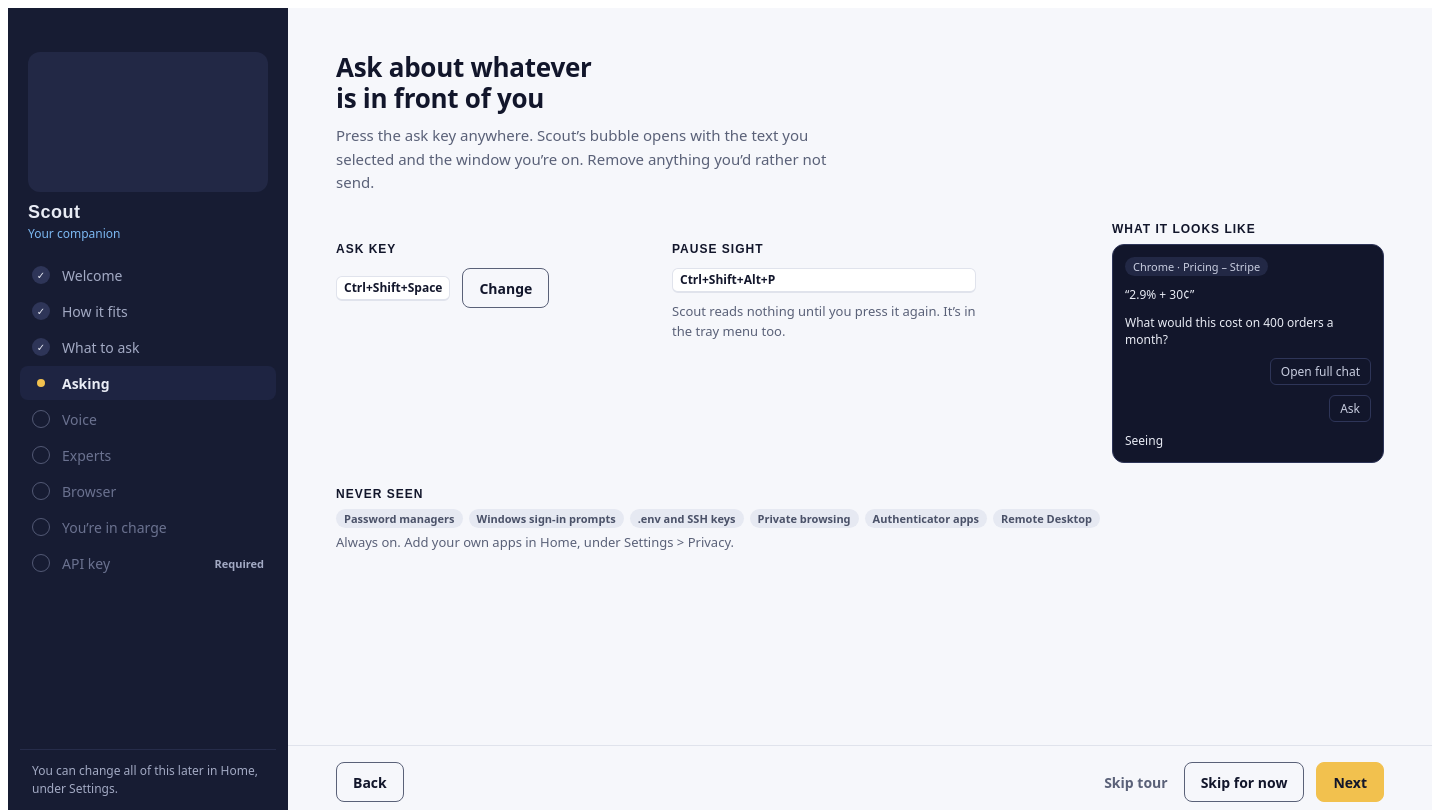
Test: Walkthrough › does not advance when the save fails, and says why
Expected: the text "Ctrl+Shift+Space" is shown, 336,276 -> 450,301
Click the button "Change".
click(506, 288)  # box 462,268 -> 549,308
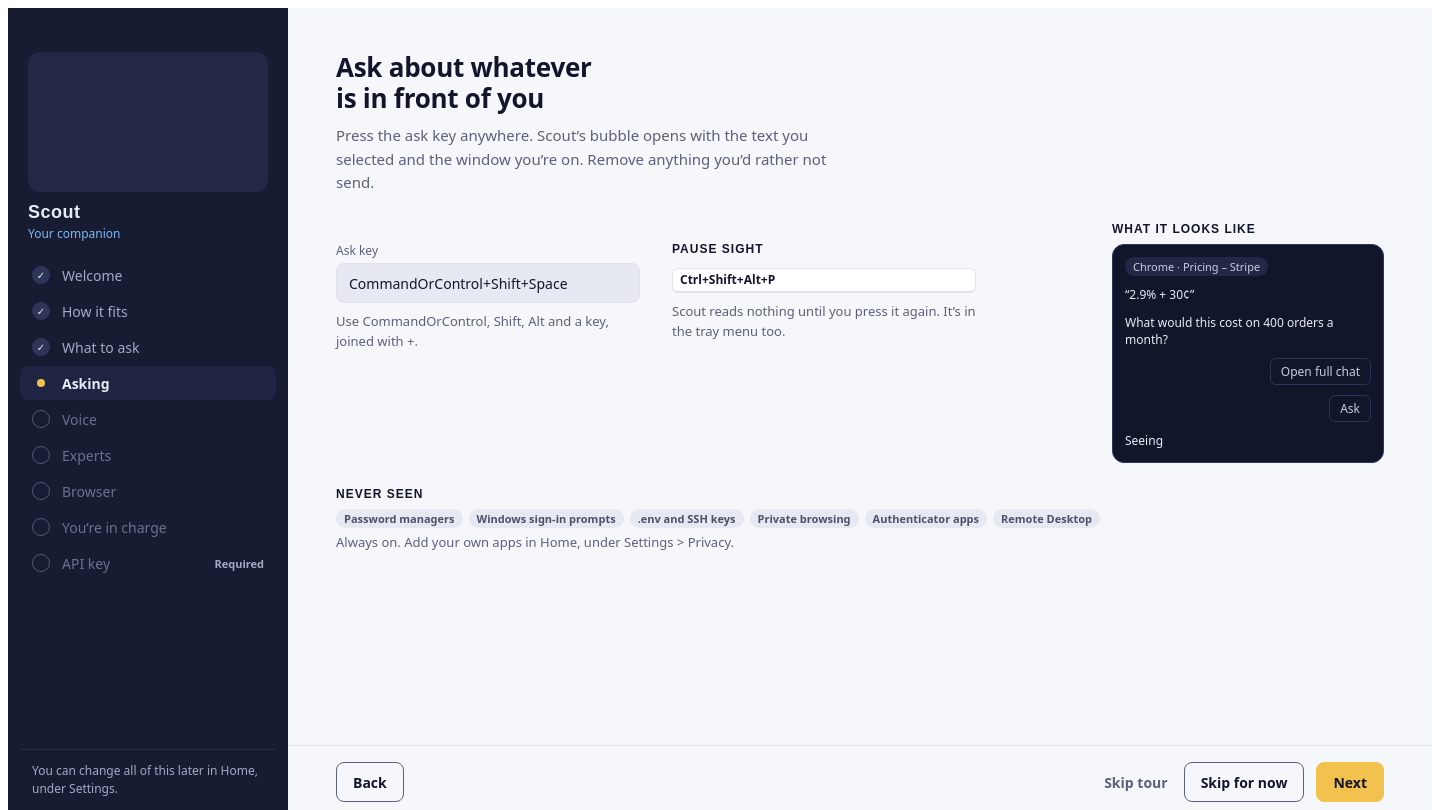
Replace the text in the field labelled "Ask key" with "Alt+Space" at (488, 283), box 336,263 -> 640,303
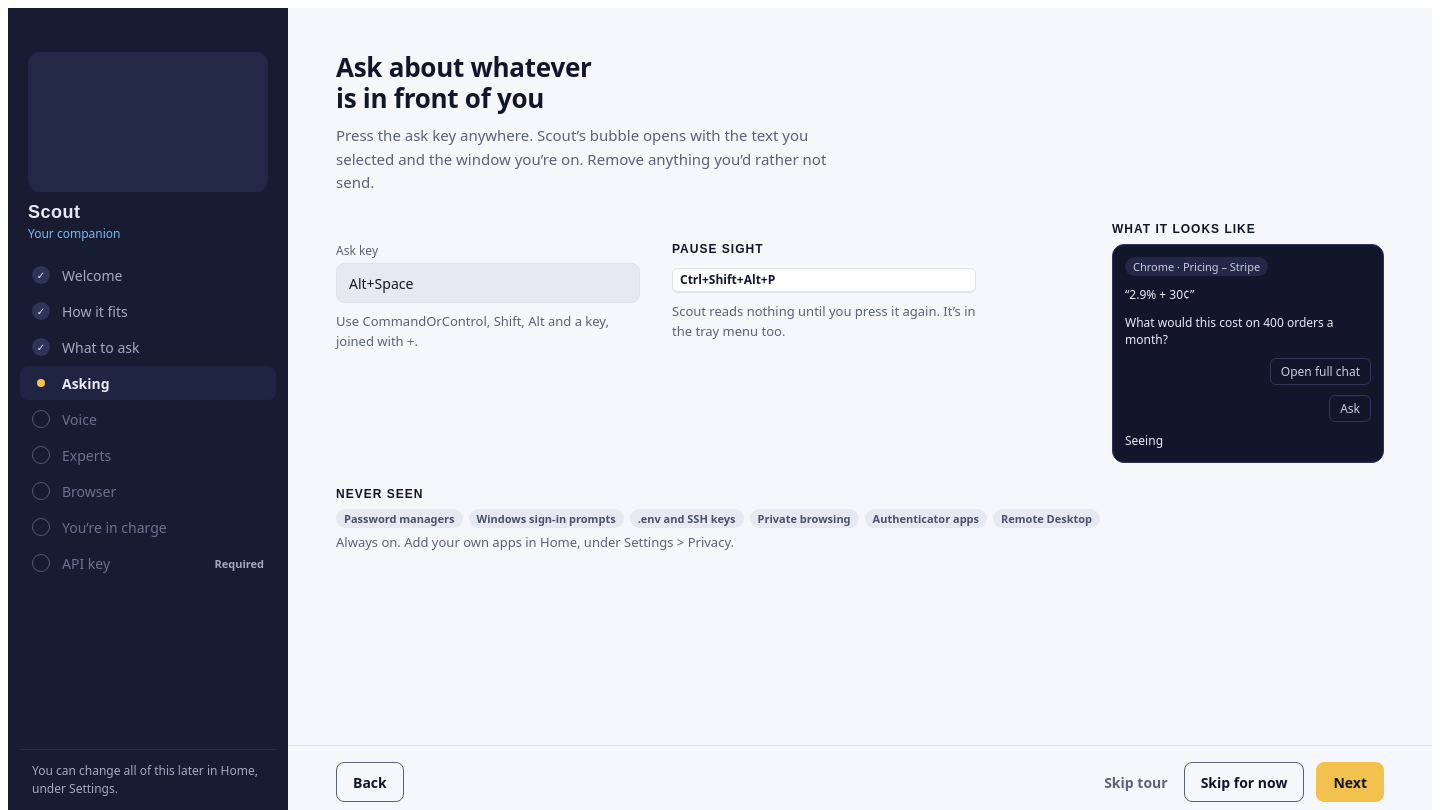
Click the button "Next".
click(1350, 782)  # box 1316,762 -> 1384,802
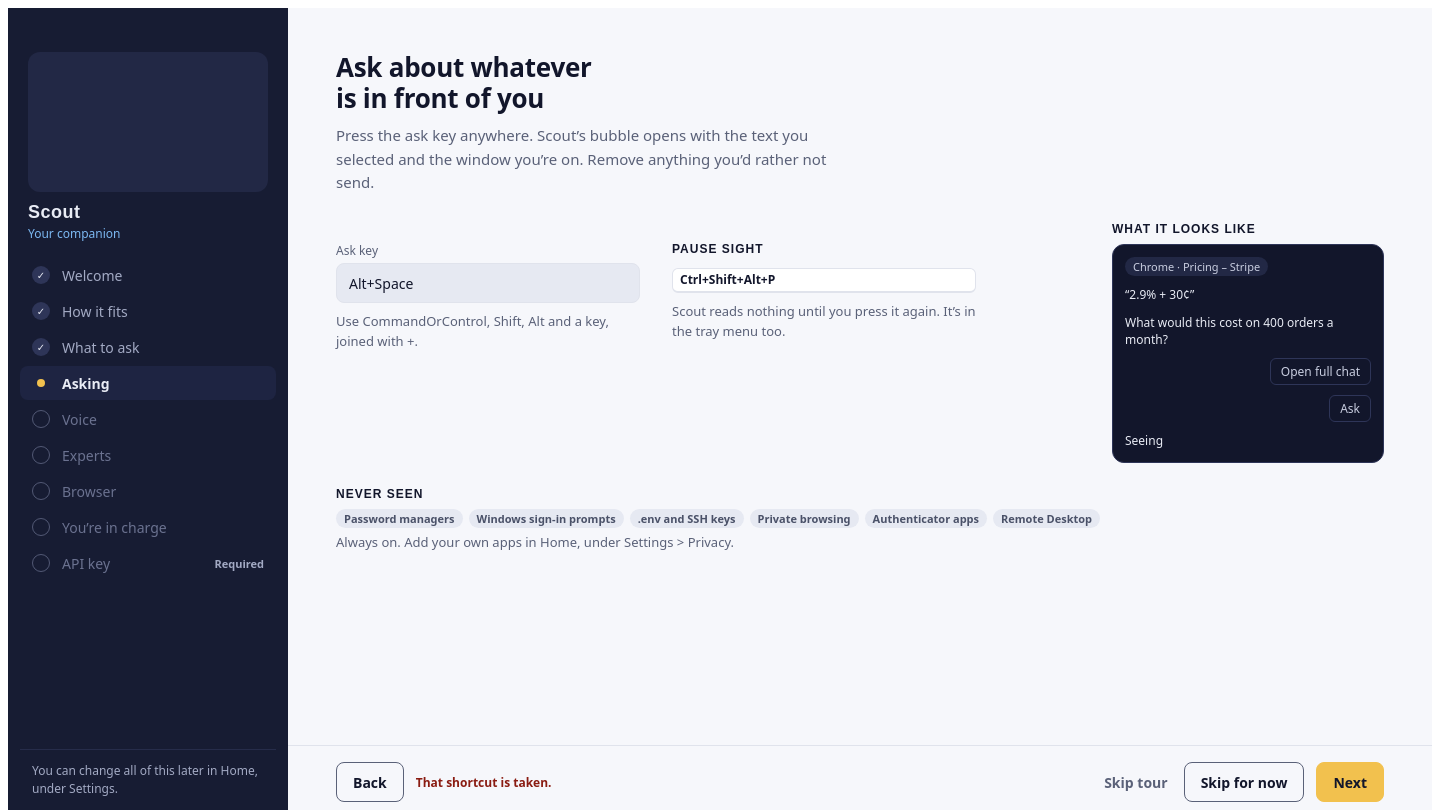
Expected: the message reads "That shortcut is taken.", 416,774 -> 552,790
